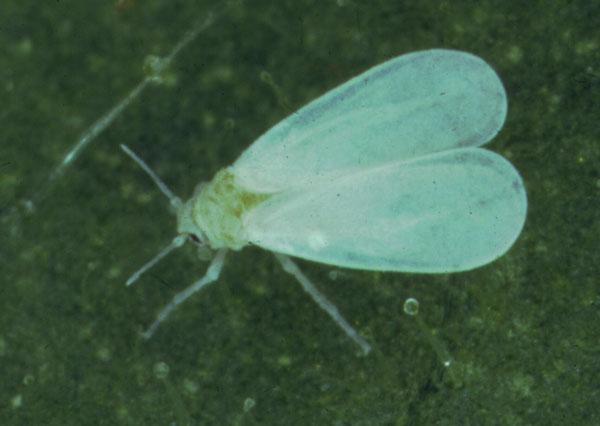whitefly: (122, 48, 526, 349)
